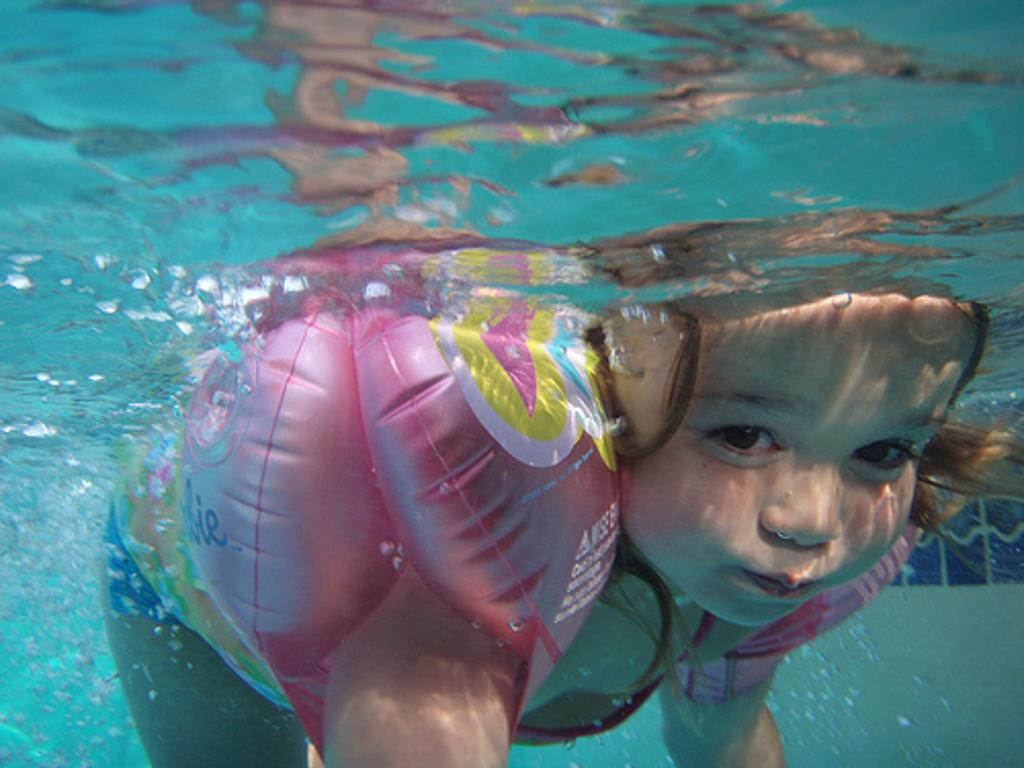face: (621, 281, 971, 631)
